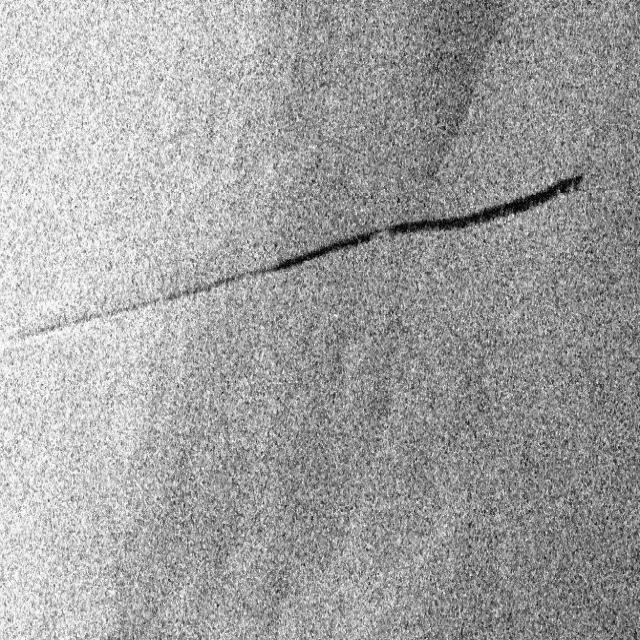oil-spill: (271, 167, 586, 290), (14, 250, 267, 362)
